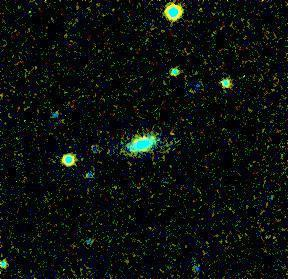star: (139, 121, 169, 151)
